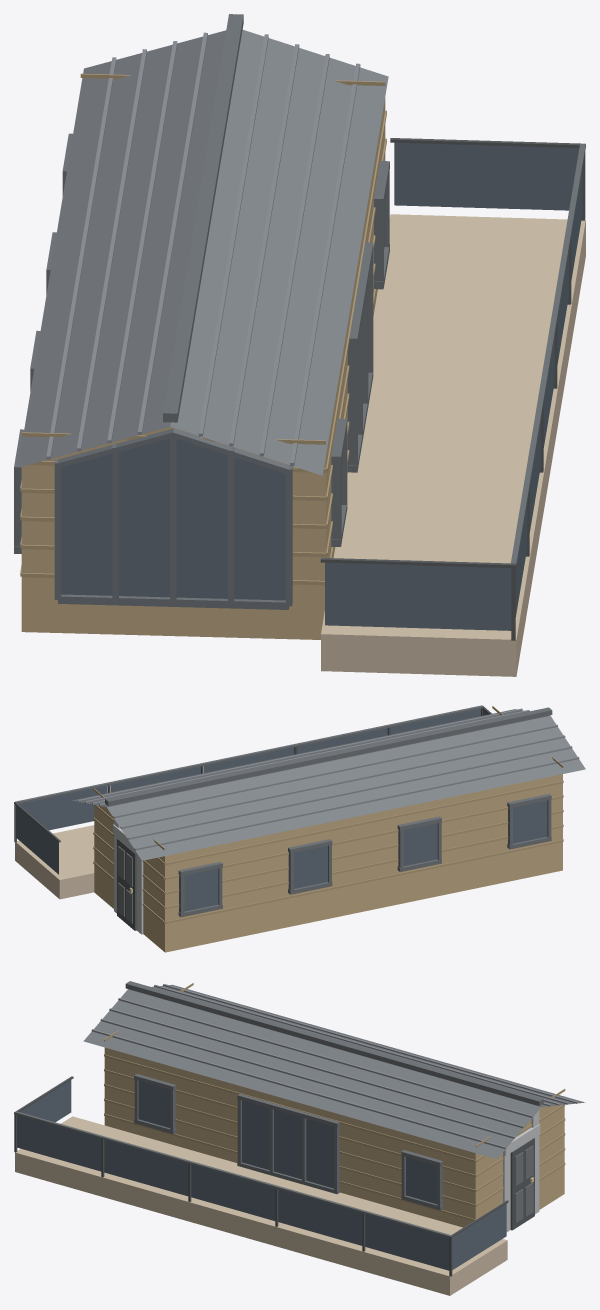
3 renders of one model, top to bottom at view 1: azimuth 30°, elevation 25°; view 2: azimuth 150°, elevation 25°; view 3: azimuth 270°, elevation 25°, orthographic. The views are drawn at different scales.
Parts seen in each view (by area): view 1: slate, larch, window_glass_013, slate_dk, door_wood, slate_lt, window_glass_006, window_glass_007, door_wood_p, pipe; view 2: door_wood, slate, slate_dk, slate_lt, door_wood_p, larch, window_glass_005, window_glass_007, window_glass_014, window_glass_016, window_glass_017, window_glass_015 (+8 smaller); view 3: slate, door_wood, larch, slate_dk, slate_lt, door_wood_p, window_glass_001, window_glass_003, window_glass_004, window_glass_005, window_glass_002, window_glass_007 (+10 smaller).
Part boxes in pixels (x1,y1,x2,y2): slate: (18, 30, 388, 475); larch: (321, 214, 585, 676); window_glass_013: (61, 438, 285, 600); slate_dk: (14, 14, 585, 609); door_wood: (21, 98, 385, 639); slate_lt: (46, 32, 360, 465); window_glass_006: (325, 562, 511, 630); window_glass_007: (394, 142, 579, 210); door_wood_p: (20, 73, 386, 585); pipe: (320, 138, 585, 640); door_wood: (94, 774, 562, 952); slate: (72, 709, 585, 860); slate_dk: (15, 705, 552, 917); slate_lt: (78, 708, 579, 850); door_wood_p: (93, 706, 563, 923); larch: (15, 825, 94, 899); window_glass_005: (19, 786, 107, 830); window_glass_007: (16, 806, 58, 874); window_glass_014: (184, 868, 218, 911); window_glass_016: (403, 823, 437, 866); window_glass_017: (513, 800, 547, 843); window_glass_015: (294, 846, 327, 888); slate: (83, 984, 585, 1158); door_wood: (104, 1047, 564, 1227); larch: (15, 1116, 507, 1295); slate_dk: (15, 981, 543, 1237); slate_lt: (91, 984, 577, 1149); door_wood_p: (104, 983, 565, 1220); window_glass_001: (17, 1115, 101, 1171); window_glass_003: (191, 1164, 275, 1220); window_glass_004: (278, 1189, 362, 1245); window_glass_005: (365, 1214, 449, 1270); window_glass_002: (104, 1140, 188, 1196); window_glass_007: (452, 1204, 506, 1269).
Size of the model in its own units: 11.77 by 3.29 by 13.3.
